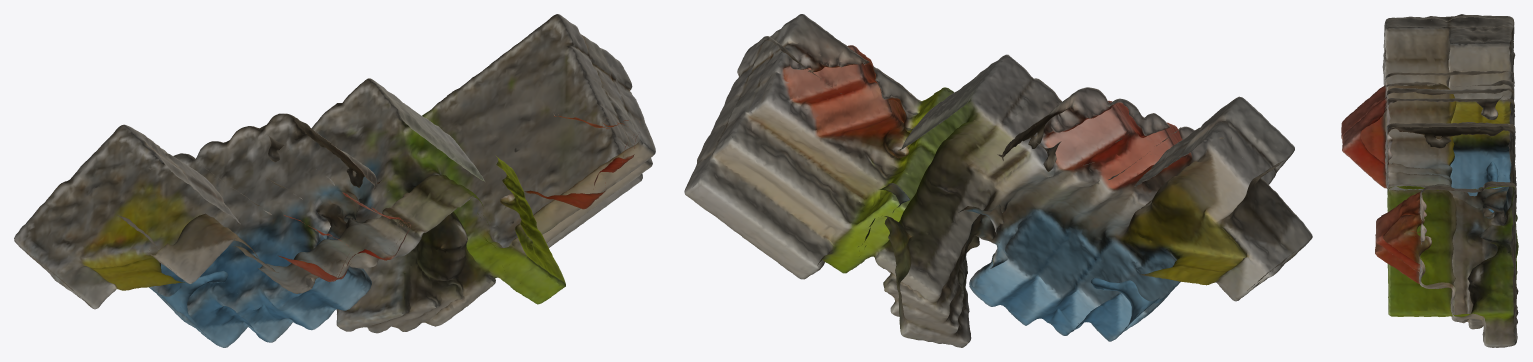
Rendered from blocks.glb.
3 views of the same model, side by side, from view 1: azimuth 30°, elevation 25°; view 2: azimuth 150°, elevation 25°; view 3: azimuth 270°, elevation 25° (orthographic). The views are drawn at different scales.
Bounding box in the file's own units: 1 × 0.4101 × 0.3132.
